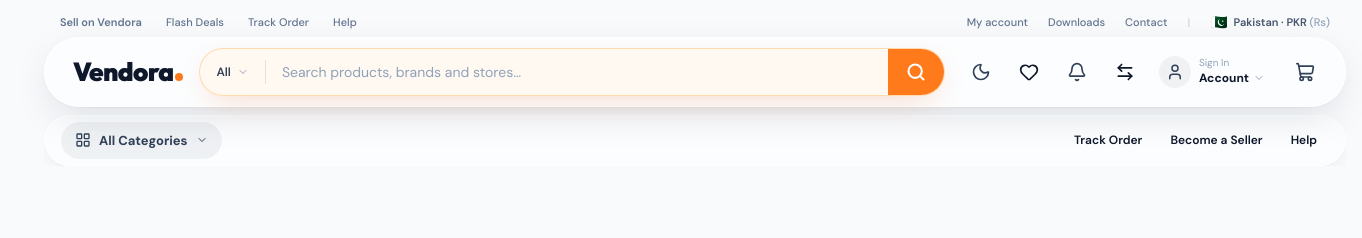
Test: Navbar (header redesign, pill shape, smart sticky, menu clip fix) › shows live suggestions and follows a product suggestion to its page
Type "Reference" into the dropdown named "Search Vendora". click: (577, 72)
box: x1=266 y1=62 x2=888 y2=82
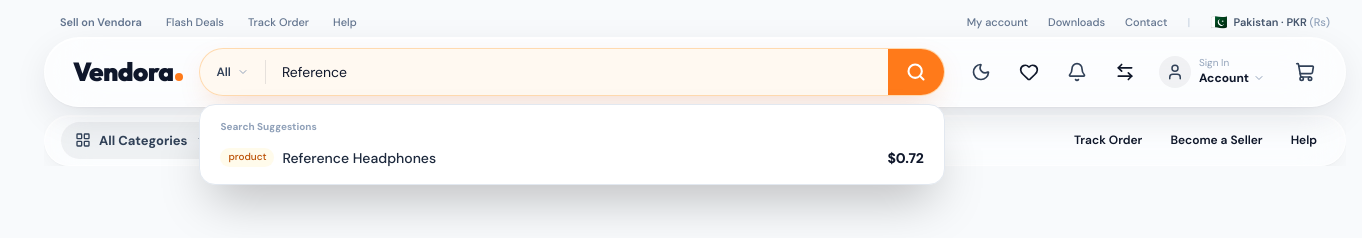
Click the option "product Reference Headphones $0.72". click: (247, 158)
box: x1=208 y1=140 x2=936 y2=176
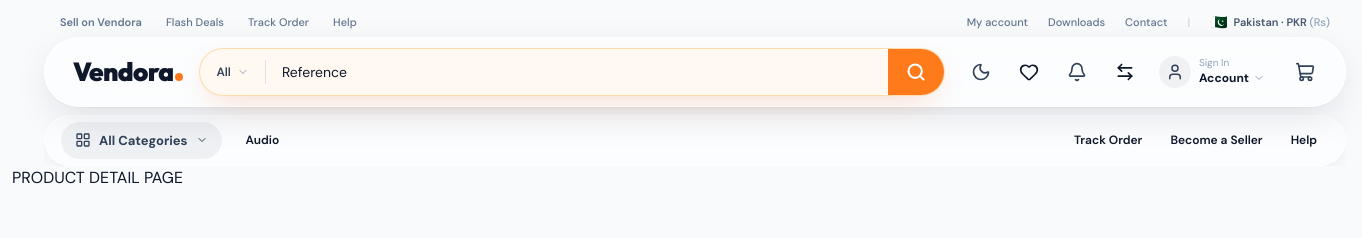
Check: the text "PRODUCT DETAIL PAGE" is shown, box x1=12 y1=167 x2=183 y2=188
